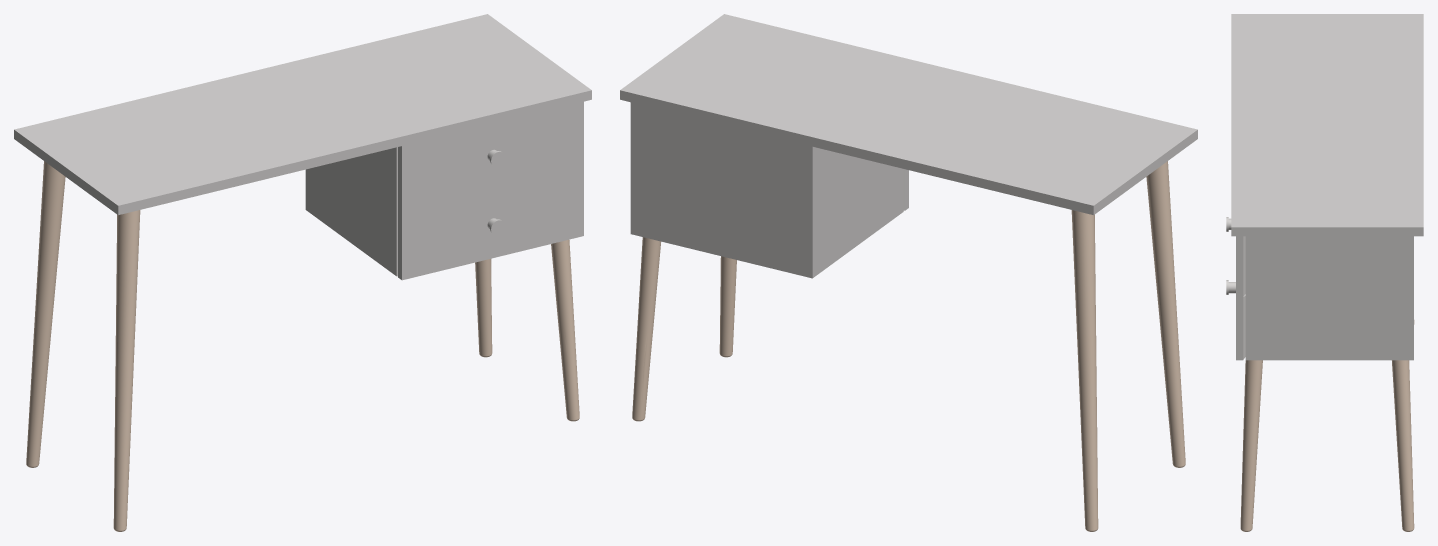
File: 348_デスク.glb
3 renders of one model, left to right at view 1: azimuth 30°, elevation 25°; view 2: azimuth 150°, elevation 25°; view 3: azimuth 270°, elevation 25°, orthographic. The views are drawn at different scales.
Visible parts, largest first — view 1: Body, hikidashi_shita, hikidashi_ue; view 2: Body; view 3: Body, hikidashi_shita, hikidashi_ue.
Boxes of the visible parts, x1,y1,x2,y2 form: Body: (14,14,591,531); hikidashi_shita: (398,167,583,280); hikidashi_ue: (398,101,583,211); Body: (620,14,1197,531); Body: (1231,14,1423,531); hikidashi_shita: (1226,280,1245,360); hikidashi_ue: (1226,217,1245,296).
Bounding box in the file's own units: 1.05 × 0.705 × 0.41.
